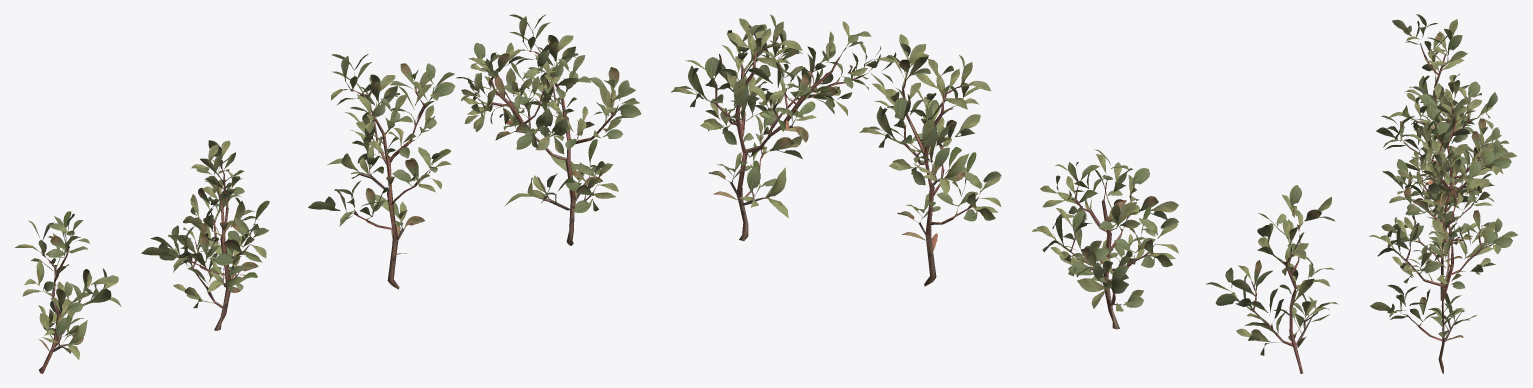
Rendered from shrub-04.glb.
The picture shows the model from 3 angles, left to right: view 1: azimuth 30°, elevation 25°; view 2: azimuth 150°, elevation 25°; view 3: azimuth 270°, elevation 25°; orthographic projection. The views are drawn at different scales.
Parts seen in each view (by area): view 1: shrub_04; view 2: shrub_04; view 3: shrub_04.
Boxes of the visible parts, x1,y1,x2,y2 form: shrub_04: (15, 14, 641, 373); shrub_04: (671, 14, 1338, 373); shrub_04: (1369, 14, 1518, 373).
Bounding box in the file's own units: 0.5837 × 0.2185 × 0.1461.
Materials: 1 (1 with a texture image).
